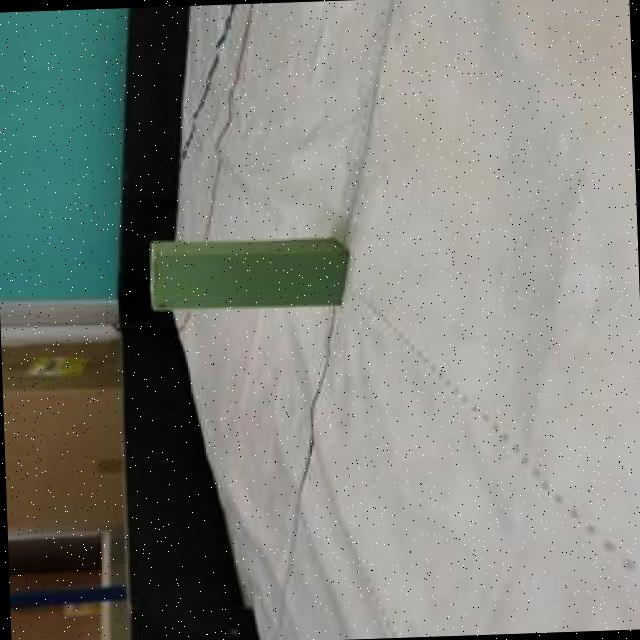greenbox: (145, 230, 349, 313)
